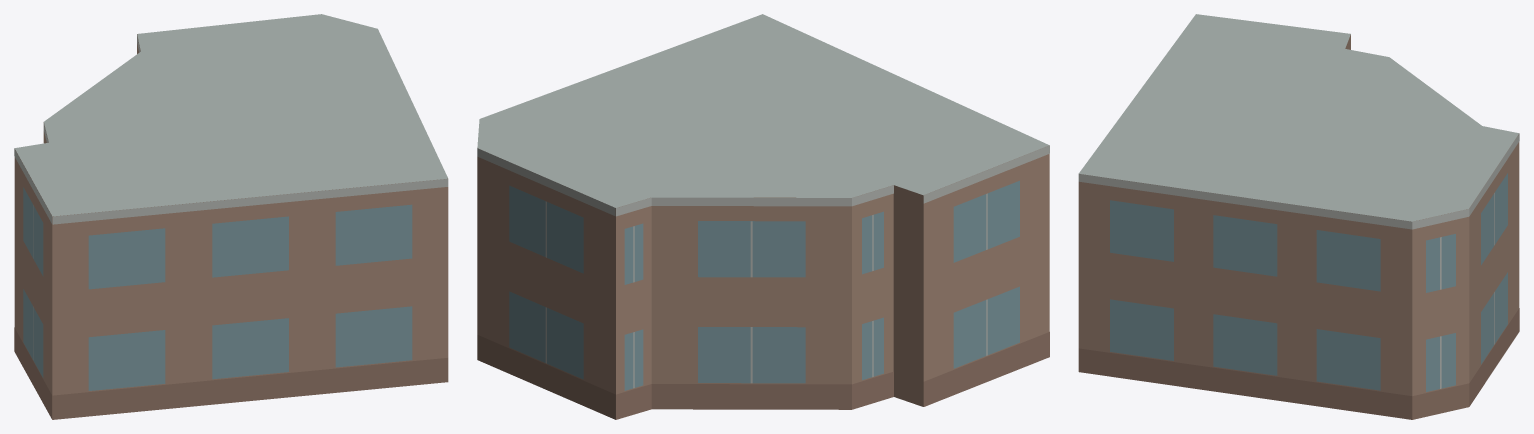
The model's file is survey-upis-32673335.glb.
The picture shows the model from 3 angles, left to right: view 1: azimuth 30°, elevation 25°; view 2: azimuth 150°, elevation 25°; view 3: azimuth 270°, elevation 25°; orthographic projection. The views are drawn at different scales.
Parts seen in each view (by area): view 1: survey-upis-32673335.tmp; view 2: survey-upis-32673335.tmp; view 3: survey-upis-32673335.tmp.
Part boxes in pixels (x1,y1,x2,y2): survey-upis-32673335.tmp: [14, 14, 448, 419]; survey-upis-32673335.tmp: [477, 14, 1049, 419]; survey-upis-32673335.tmp: [1078, 14, 1519, 419].
Bounding box in the file's own units: 13.71 × 6.1 × 12.31.
